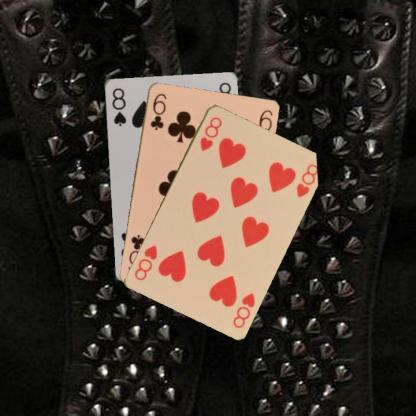6c: (147, 91, 168, 131)
8h: (230, 290, 257, 329), (197, 114, 223, 152)
8s: (109, 85, 127, 127)
